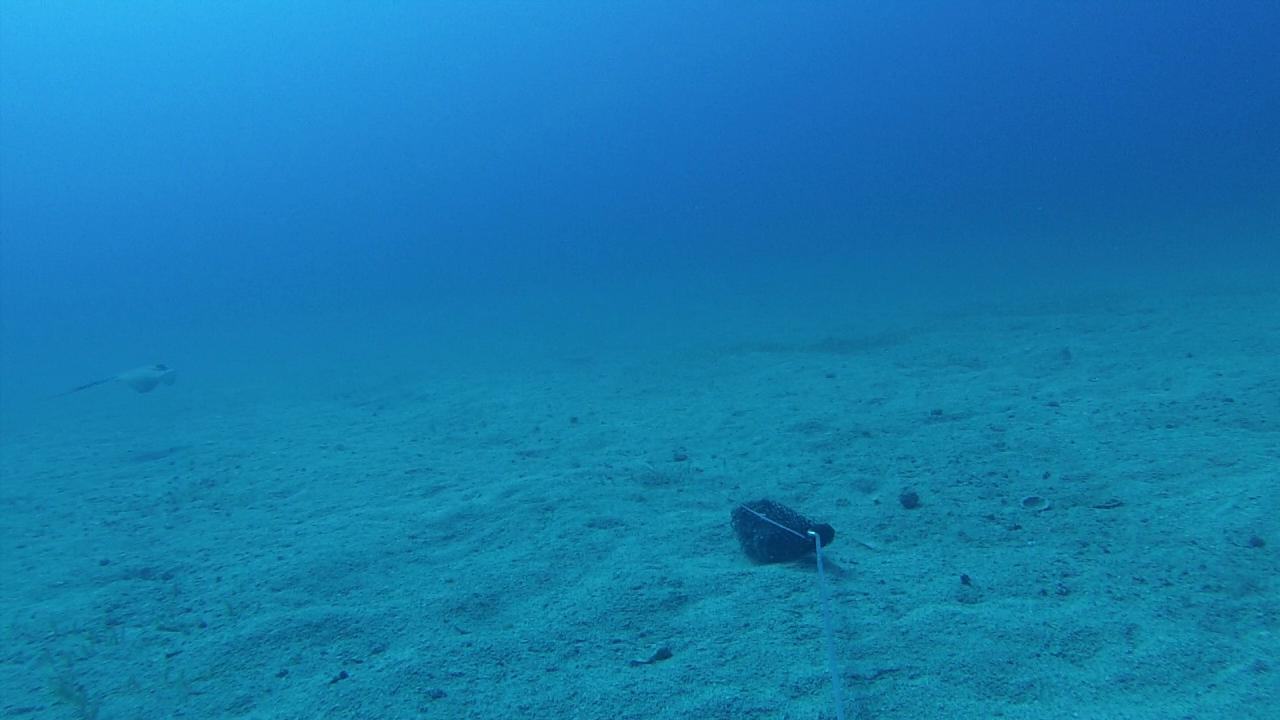dasyatis: (45, 353, 181, 401)
